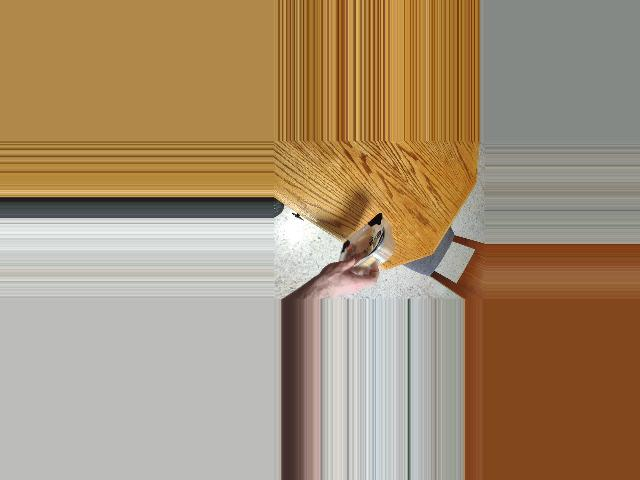cheese: (322, 213, 404, 271)
